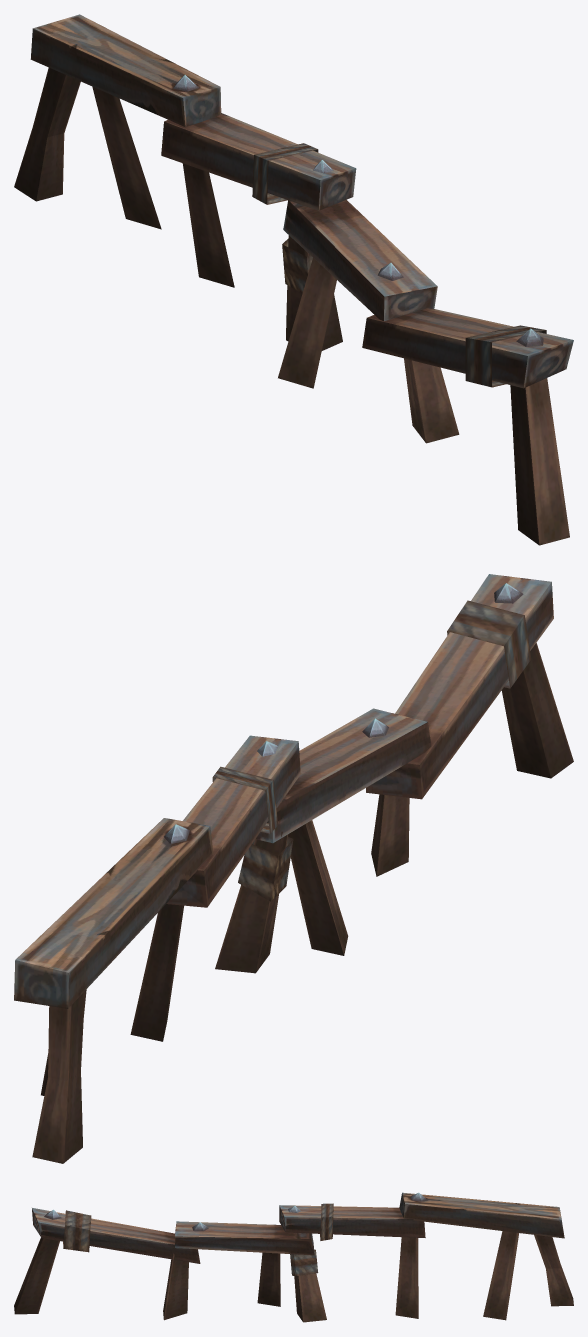
The model's file is mine_railing02.fbx.
The picture shows the model from 3 angles, top to bottom: view 1: azimuth 30°, elevation 25°; view 2: azimuth 150°, elevation 25°; view 3: azimuth 270°, elevation 25°; orthographic projection. The views are drawn at different scales.
Visible parts, largest first — view 1: obj0.128; view 2: obj0.128; view 3: obj0.128.
Boxes of the visible parts, box(x1,y1,x2,y2) form: obj0.128: box(14, 14, 573, 545); obj0.128: box(14, 574, 573, 1163); obj0.128: box(14, 1192, 573, 1322).
Bounding box in the file's own units: 0.842 × 1.87 × 8.24.
